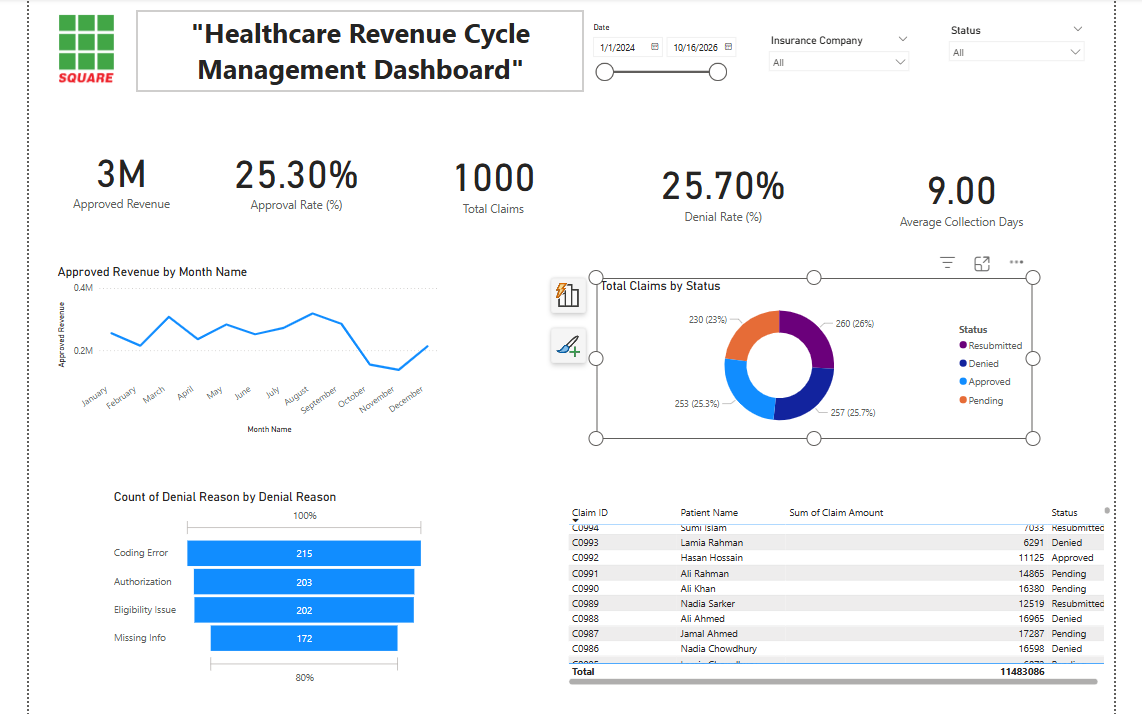

Layout of this report page (visuals, bound fields, positions):
{"tool":"powerbi","page":{"name":"Page 1","canvas":[1450,1000],"ordinal":0},"visuals":[{"type":"image","box":[15.7,0,148.3,137.8],"z":0},{"type":"card","fields":{"Values":["Mas_.Approved Revenue"]},"box":[34.6,160.7,222.9,107.1],"z":1000},{"type":"card","fields":{"Values":["Mas_.Total Claims"]},"box":[290.3,160.7,221.1,115.8],"z":2000},{"type":"card","fields":{"Values":["Mas_.Approval Rate (%)"]},"box":[834.5,162.4,264.3,115.8],"z":3000},{"type":"card","fields":{"Values":["Mas_.Denial Rate (%)"]},"box":[566.7,162.4,217.7,114],"z":4000},{"type":"card","fields":{"Values":["Mas_.Average Collection Days"]},"box":[1148.9,160.7,264.3,117.5],"z":5000},{"type":"lineChart","fields":{"Category":["Date Table.Month Name"],"Y":["Mas_.Approved Revenue"]},"box":[34.6,312.7,749.8,347.3],"z":6000},{"type":"donutChart","fields":{"Category":["Sheet1.Status"],"Y":["Mas_.Total Claims"]},"box":[799.9,312.7,613.3,330],"z":7000},{"type":"funnel","title":" Denial Reason ","fields":{"Category":["Sheet1.Denial Reason"],"Y":["CountNonNull(Sheet1.Denial Reason)"]},"box":[799.9,660,613.3,321.4],"z":8000},{"type":"tableEx","fields":{"Values":["Sheet1.Claim ID","Sheet1.Patient Name","Sum(Sheet1.Claim Amount)","Sheet1.Status"]},"box":[34.6,672.1,727.4,298.9],"z":9000},{"type":"textbox","box":[148.3,17.4,619.2,111.6],"z":10000},{"type":"slicer","fields":{"Values":["Date Table.Date"]},"box":[767.1,29.4,231.5,100.2],"z":11000},{"type":"slicer","fields":{"Values":["Sheet1.Insurance Company"]},"box":[1015.9,31.1,210.8,98.5],"z":12000},{"type":"slicer","fields":{"Values":["Sheet1.Department"]},"box":[1238.8,31.1,186.6,98.5],"z":13000}]}

Visuals, with their boxes on the page's 1450x1000 design canvas (x1, y1, x2, y2). These are canvas units, not pixel positions in the 1142x714 screenshot, which may show the page scaled, cropped or inside an application window:
image: {"x1": 16, "y1": 0, "x2": 164, "y2": 138}
card - Mas_.Approved Revenue: {"x1": 35, "y1": 161, "x2": 258, "y2": 268}
card - Mas_.Total Claims: {"x1": 290, "y1": 161, "x2": 511, "y2": 276}
card - Mas_.Approval Rate (%): {"x1": 834, "y1": 162, "x2": 1099, "y2": 278}
card - Mas_.Denial Rate (%): {"x1": 567, "y1": 162, "x2": 784, "y2": 276}
card - Mas_.Average Collection Days: {"x1": 1149, "y1": 161, "x2": 1413, "y2": 278}
lineChart - Date Table.Month Name x Mas_.Approved Revenue: {"x1": 35, "y1": 313, "x2": 784, "y2": 660}
donutChart - Sheet1.Status x Mas_.Total Claims: {"x1": 800, "y1": 313, "x2": 1413, "y2": 643}
" Denial Reason " funnel: {"x1": 800, "y1": 660, "x2": 1413, "y2": 981}
tableEx - Sheet1.Claim ID x Sheet1.Patient Name: {"x1": 35, "y1": 672, "x2": 762, "y2": 971}
textbox: {"x1": 148, "y1": 17, "x2": 768, "y2": 129}
slicer - Date Table.Date: {"x1": 767, "y1": 29, "x2": 999, "y2": 130}
slicer - Sheet1.Insurance Company: {"x1": 1016, "y1": 31, "x2": 1227, "y2": 130}
slicer - Sheet1.Department: {"x1": 1239, "y1": 31, "x2": 1425, "y2": 130}
